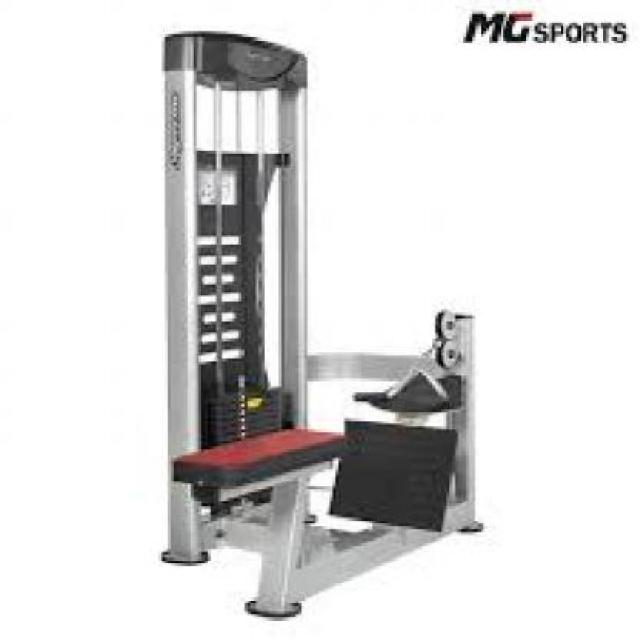Seated Cable Rows: (142, 26, 504, 622)
